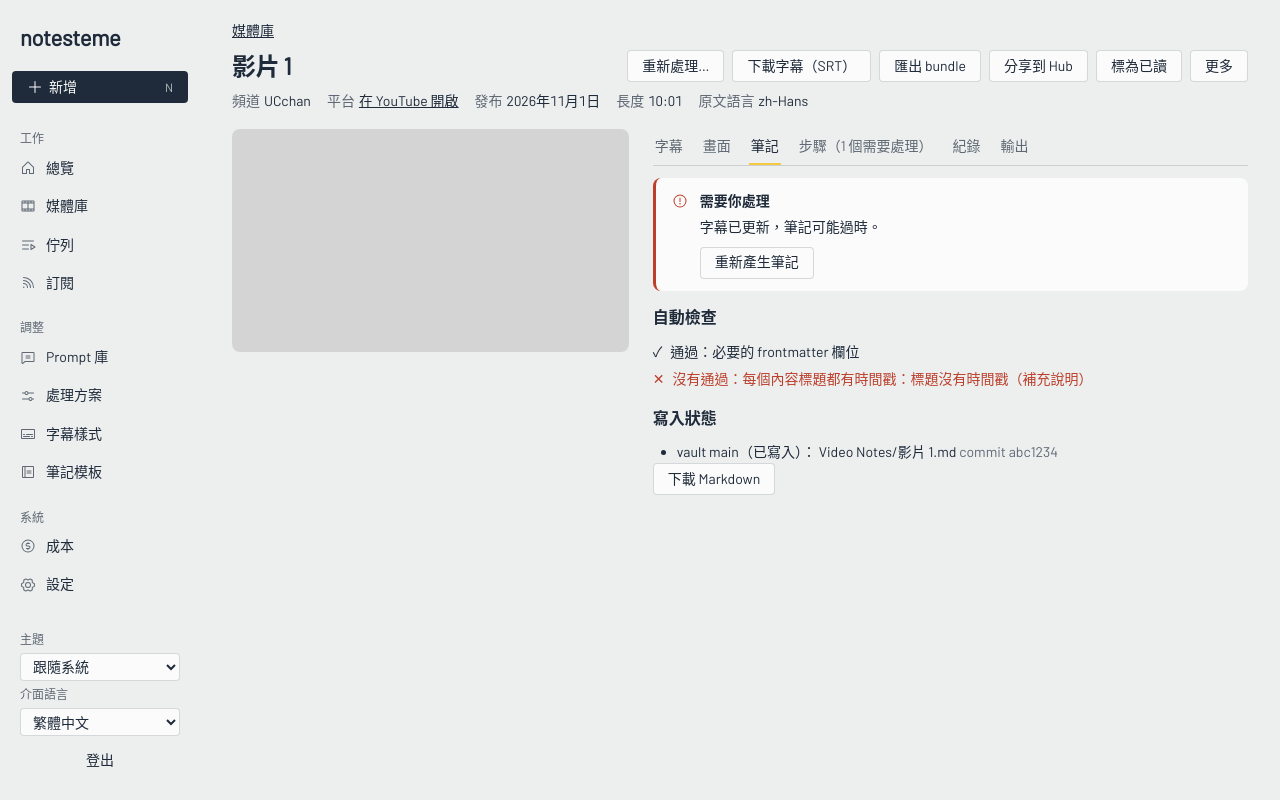
Test case: 影音詳情：筆記 › 過時的筆記提供「重新產生筆記」，打開重新處理對話框
Expected: the heading "影片 1" is shown, [232,50,291,82]
Click the button "重新產生筆記" at (757, 263), box [700,247,814,279]
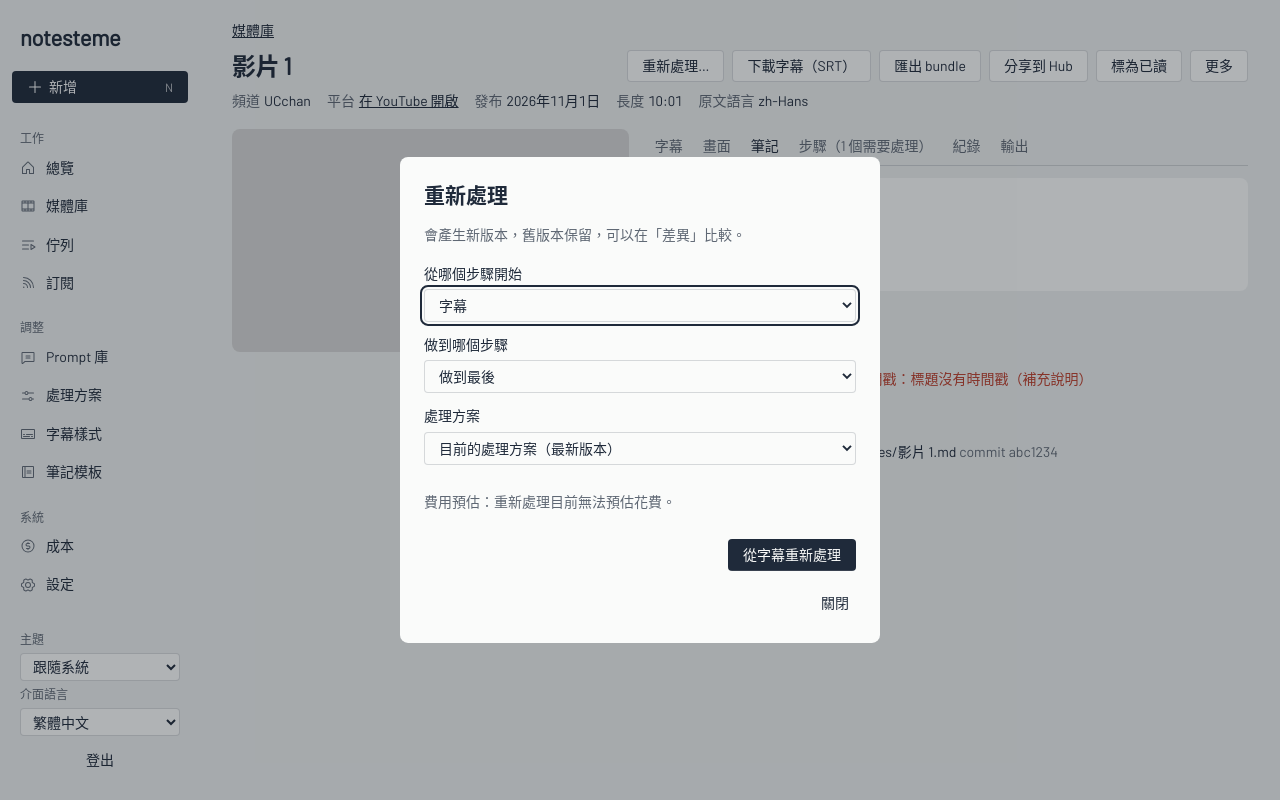
Expected: the dialog is shown, [400,157,880,643]
